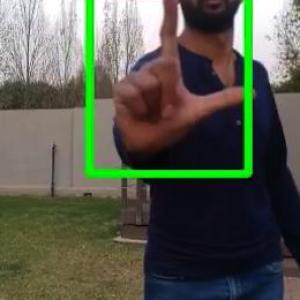land_hand: (112, 0, 258, 156)
